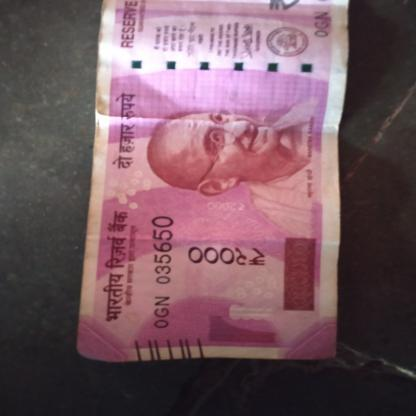New2000Front: (82, 0, 338, 366)
